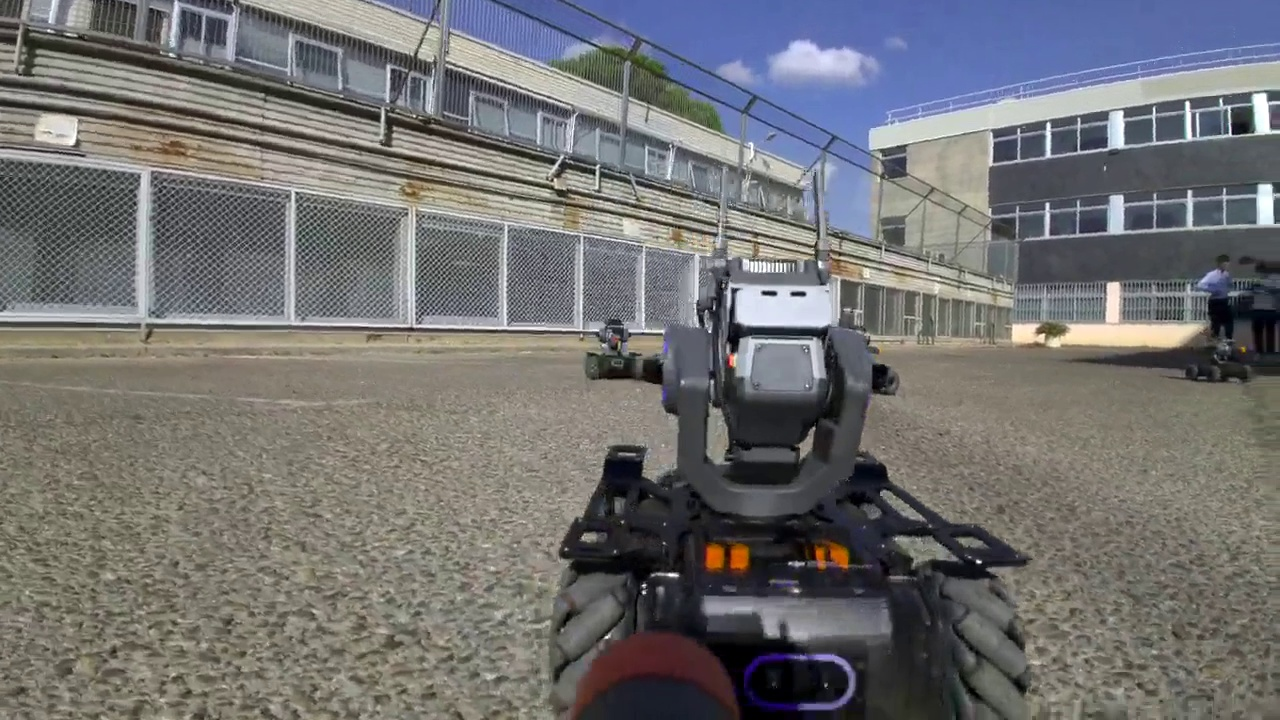robot: (549, 161, 1029, 720), (586, 318, 643, 386), (1186, 334, 1250, 384)
